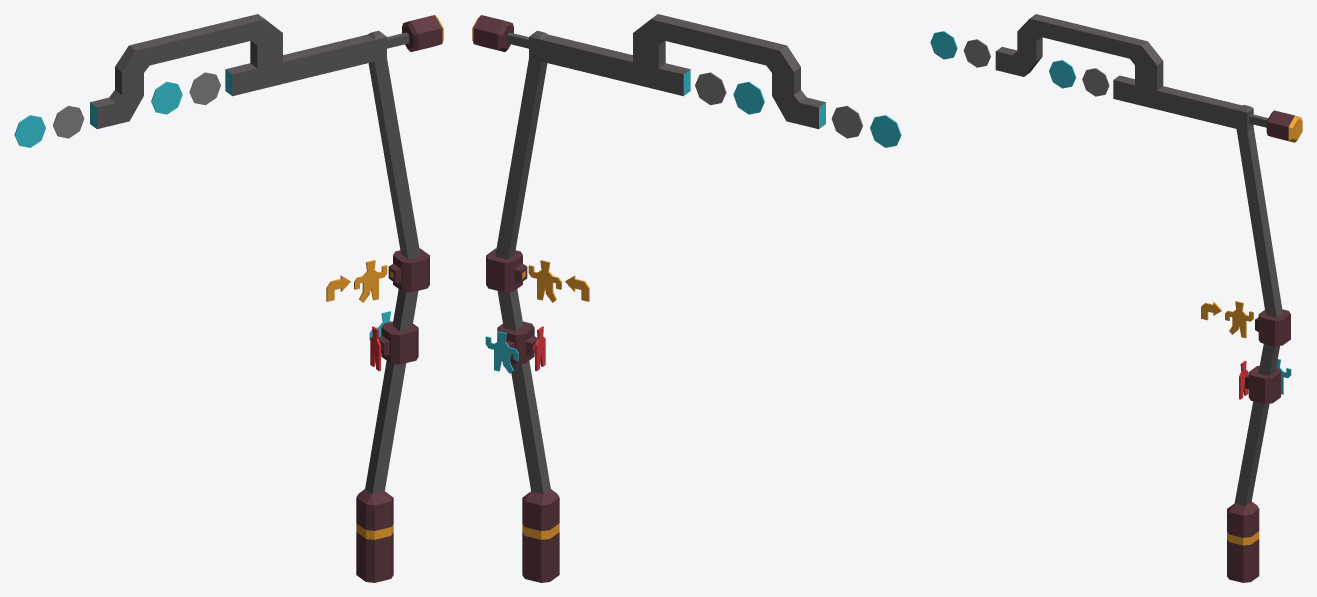
The model's file is scifi-traffic-lights-long-corner-a.fbx.
The picture shows the model from 3 angles, left to right: view 1: azimuth 30°, elevation 25°; view 2: azimuth 150°, elevation 25°; view 3: azimuth 330°, elevation 25°; orthographic projection. The views are drawn at different scales.
Visible parts, largest first — view 1: scifi-traffic-lights-long-corner-a; view 2: scifi-traffic-lights-long-corner-a; view 3: scifi-traffic-lights-long-corner-a.
Part boxes in pixels (x1,y1,x2,y2): scifi-traffic-lights-long-corner-a: (14,14,443,582); scifi-traffic-lights-long-corner-a: (472,14,901,582); scifi-traffic-lights-long-corner-a: (930,14,1302,582).
Bounding box in the file's own units: 7.17 × 9.5 × 0.6488.
